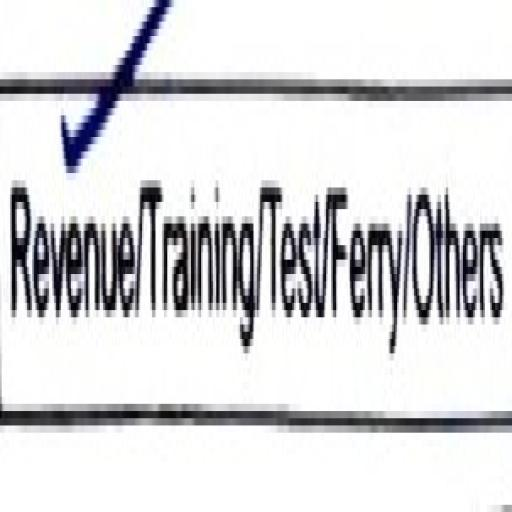check: (0, 0, 142, 459)
